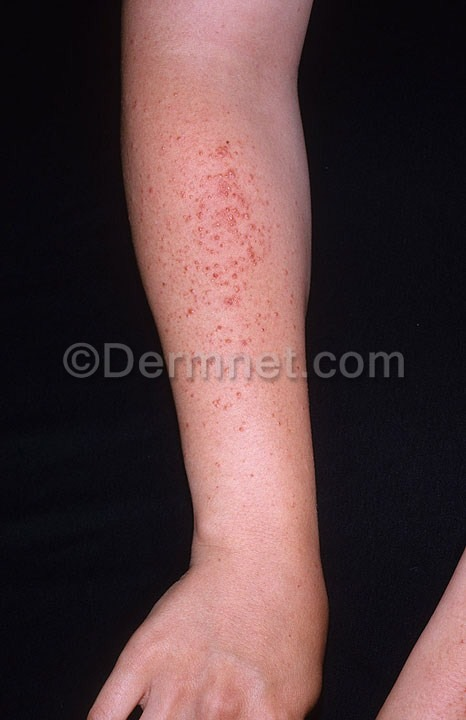Melasma: (137, 121, 287, 342)
